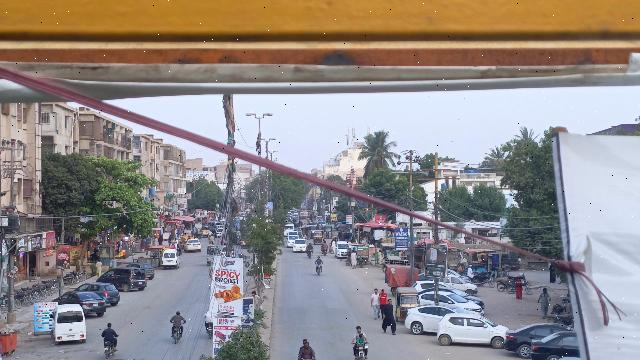Bike: (350, 342, 371, 360), (169, 323, 181, 346), (103, 340, 115, 358), (204, 322, 214, 340), (314, 263, 325, 276), (307, 248, 313, 258), (322, 248, 328, 256)
Car: (436, 313, 508, 349), (503, 322, 568, 357), (49, 290, 107, 319), (530, 329, 581, 360), (405, 304, 456, 334), (419, 291, 482, 314), (98, 267, 147, 292), (73, 281, 120, 305)
Person: (380, 298, 398, 337), (535, 287, 553, 317), (99, 322, 118, 342), (368, 286, 380, 317), (297, 341, 317, 359), (379, 287, 389, 318), (170, 309, 185, 328), (348, 250, 360, 270), (353, 325, 361, 341), (313, 256, 324, 265), (358, 332, 366, 344), (306, 242, 313, 250), (322, 241, 328, 248)
Rickshaw: (395, 286, 417, 324)
Van: (49, 304, 88, 346), (161, 250, 180, 269)
